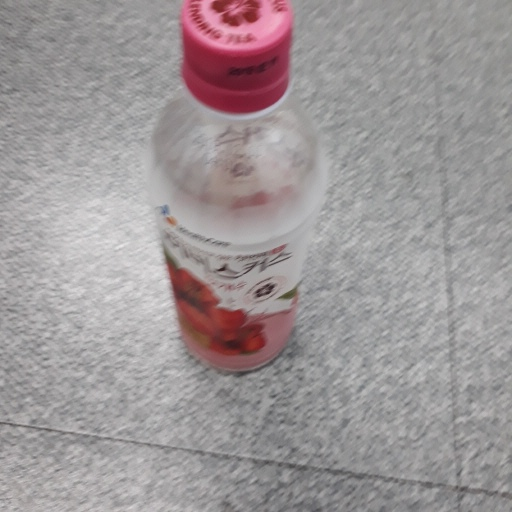Plastic_0: (145, 1, 326, 377)
